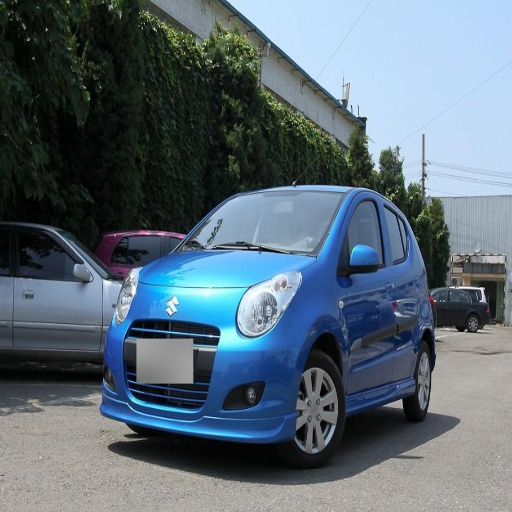front_bumper: (115, 288, 307, 443)
front_glass: (177, 196, 344, 255)
front_left_door: (339, 192, 395, 394)
front_left_light: (238, 276, 297, 336)
